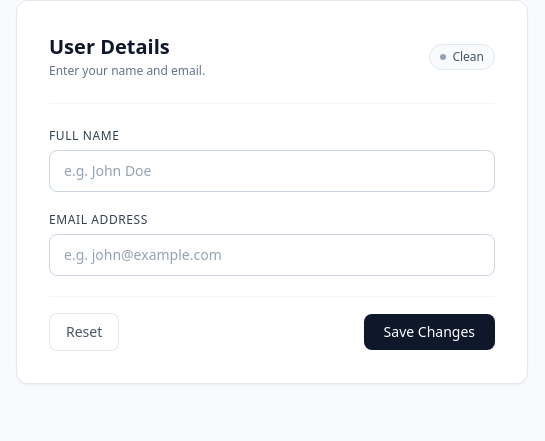
Test: UnsavedChangesForm › validates fields on empty submission
The image size is (545, 441).
Click the button "Save Changes": (429, 332) [364,314,495,350]
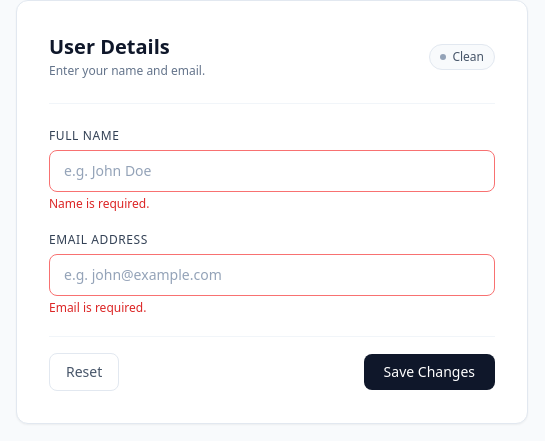
expect the text "Name is required." is shown: met, box [49,195,149,212]
expect the text "Email is required." is shown: met, box [49,299,146,316]
